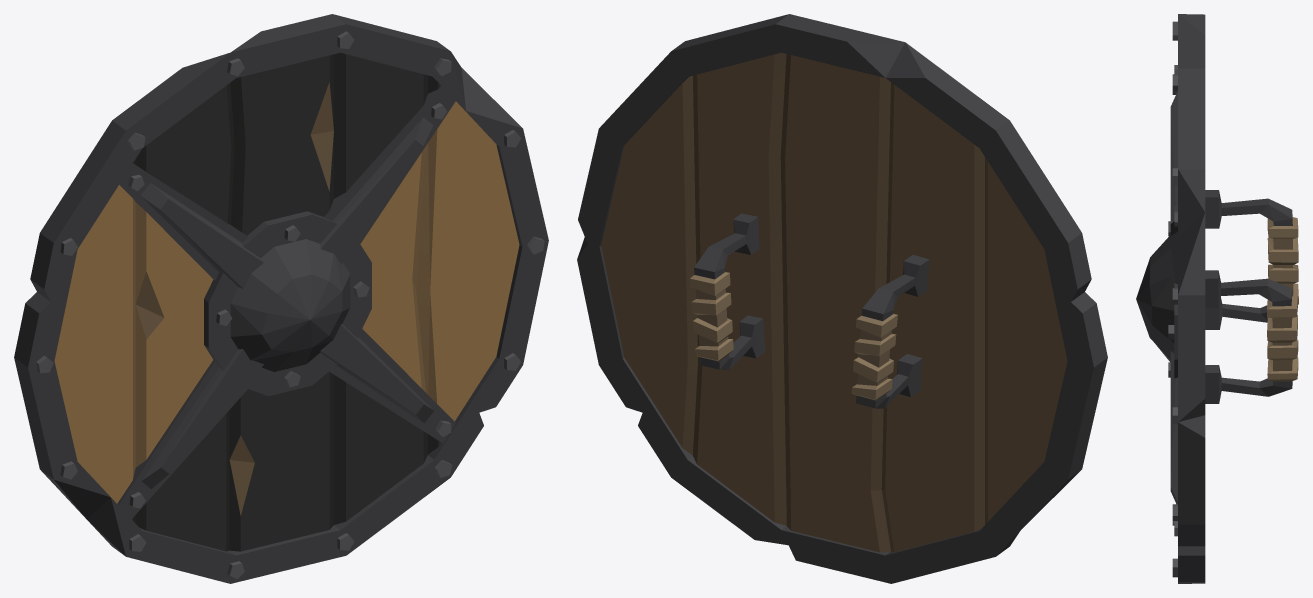
File: Escudo.glb
The picture shows the model from 3 angles, left to right: view 1: azimuth 30°, elevation 25°; view 2: azimuth 150°, elevation 25°; view 3: azimuth 270°, elevation 25°; orthographic projection. The views are drawn at different scales.
Visible parts, largest first — view 1: SM_Wep_Shield_01; view 2: SM_Wep_Shield_01; view 3: SM_Wep_Shield_01.
Part boxes in pixels (left/top/right/bottom): SM_Wep_Shield_01: left=14, top=14, right=548, bottom=583; SM_Wep_Shield_01: left=577, top=14, right=1107, bottom=583; SM_Wep_Shield_01: left=1136, top=14, right=1298, bottom=583.
Size of the model in its own units: 0.7578 by 0.7388 by 0.2118.
1 material, 1 textured.
